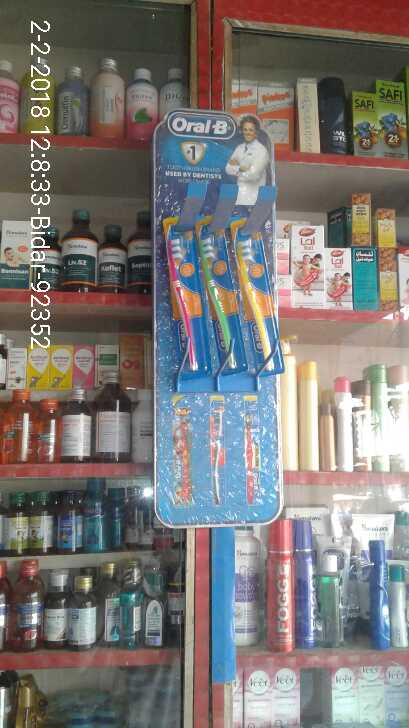oralb: (231, 209, 286, 382), (159, 212, 201, 383), (196, 206, 227, 384)
